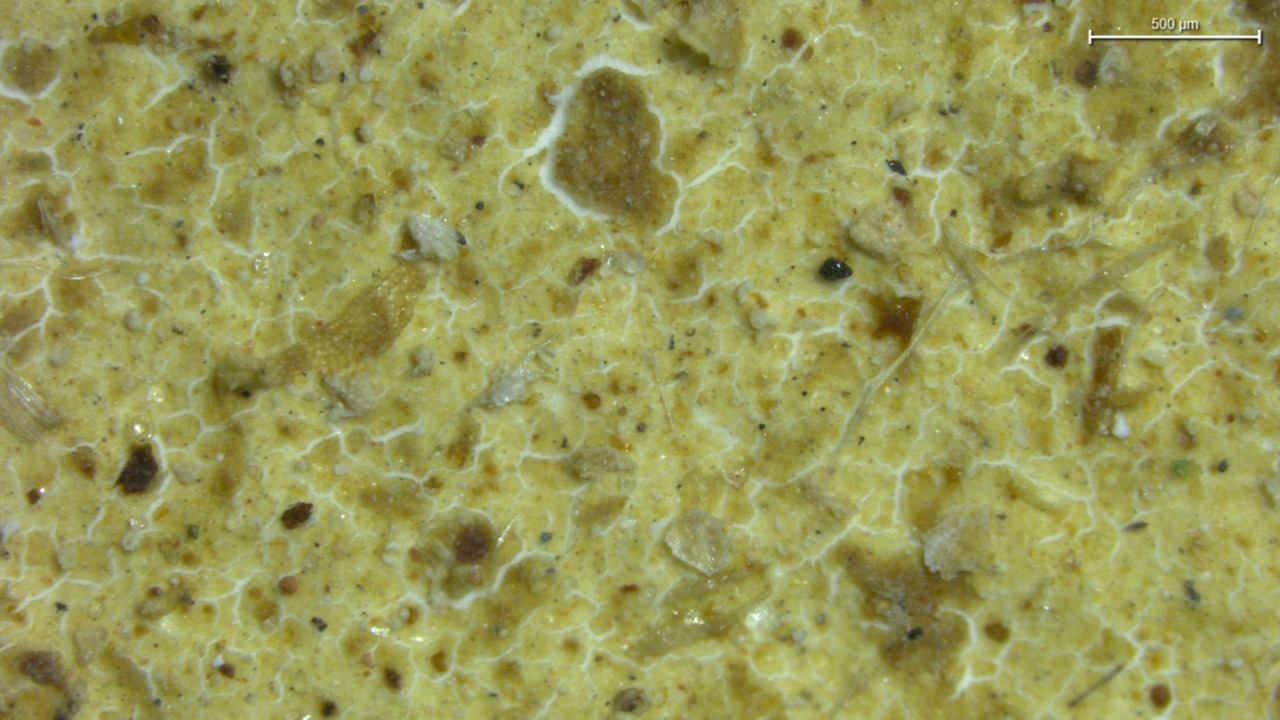microplastic_fragment: (665, 507, 729, 576), (848, 203, 908, 261), (407, 215, 465, 259)
